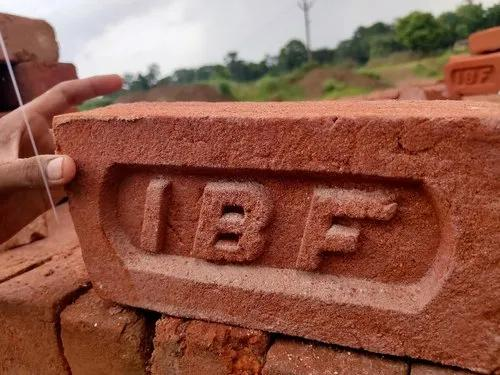brick: (51, 119, 498, 372), (149, 335, 263, 370), (62, 321, 139, 372), (2, 304, 50, 373), (264, 357, 407, 374), (447, 59, 497, 94), (469, 28, 500, 54)
